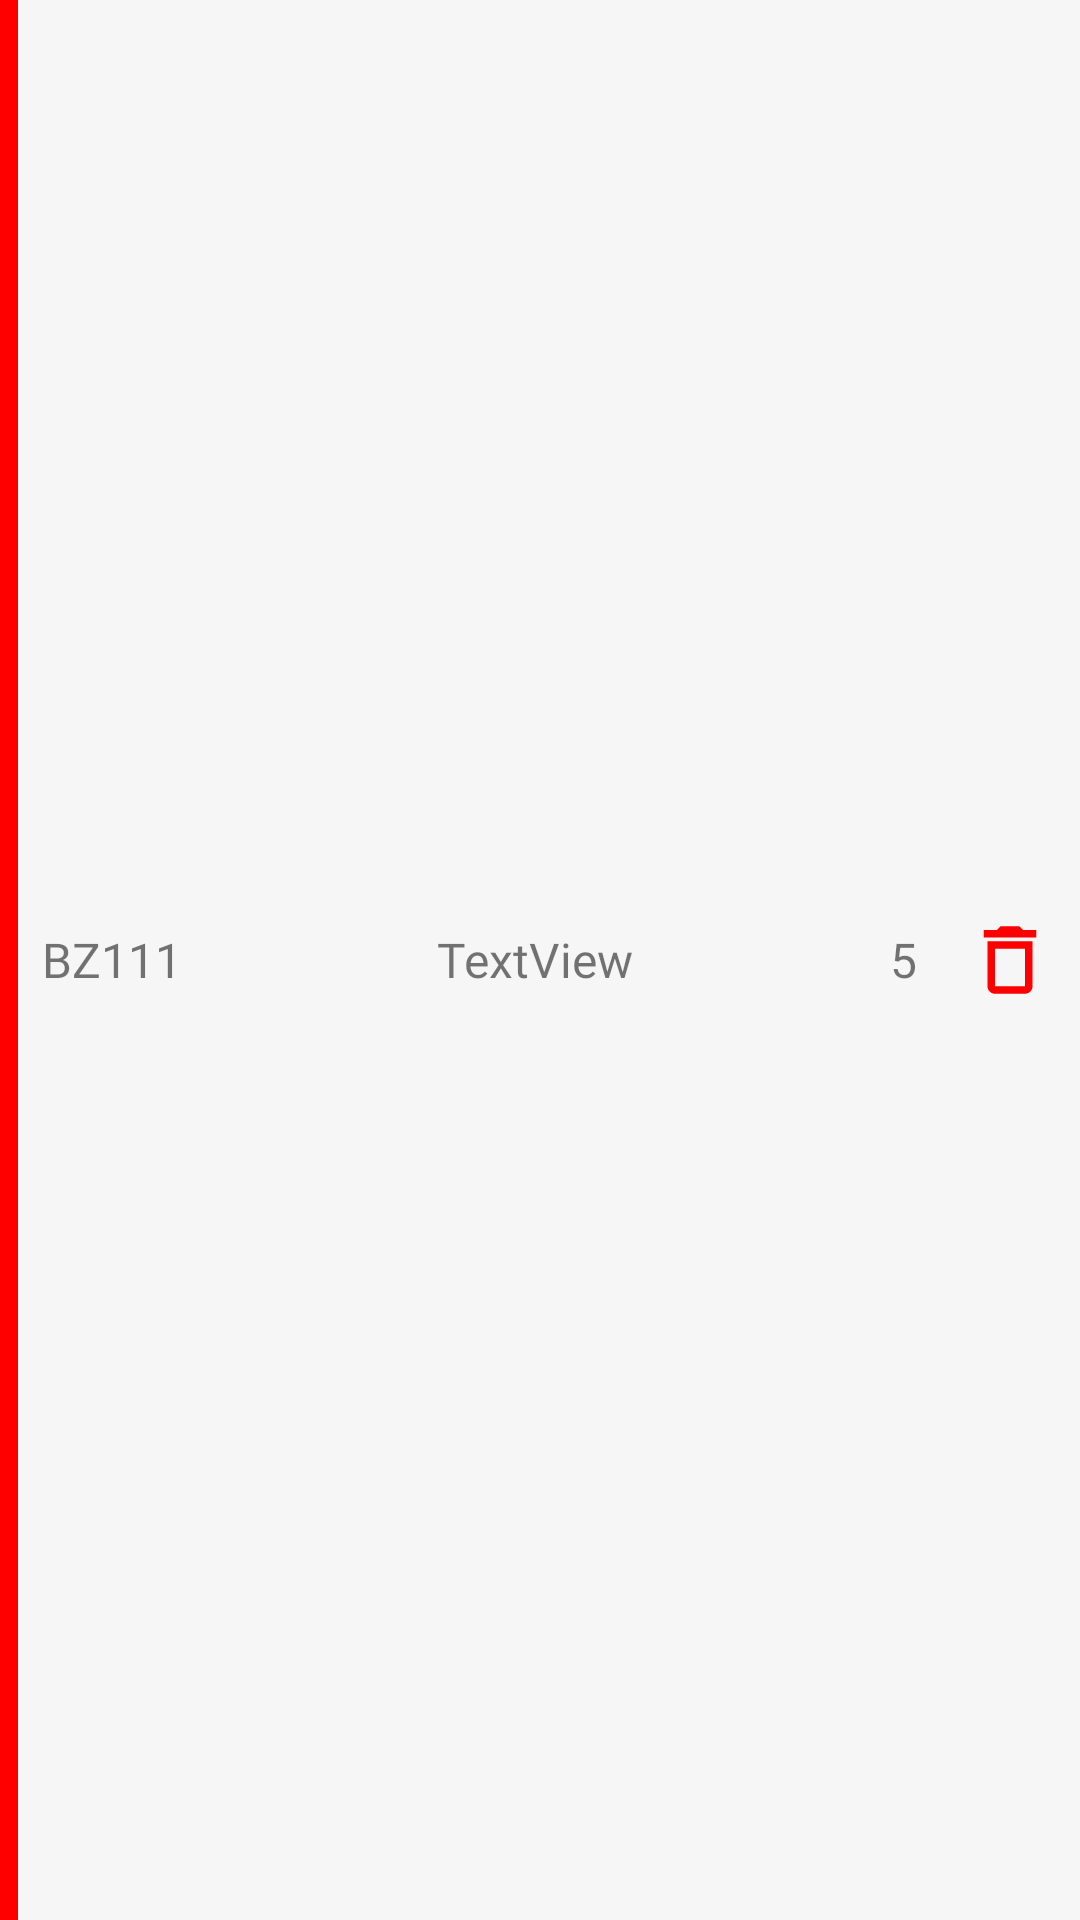

Named icons in this screenshot (1080×1920) and their centers, point (x, y):
delete: point (1010, 960)
